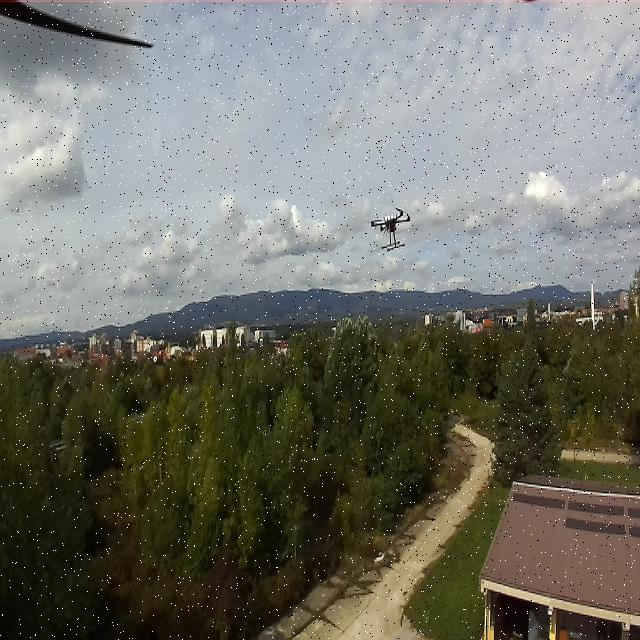UAV: (367, 204, 414, 255)
